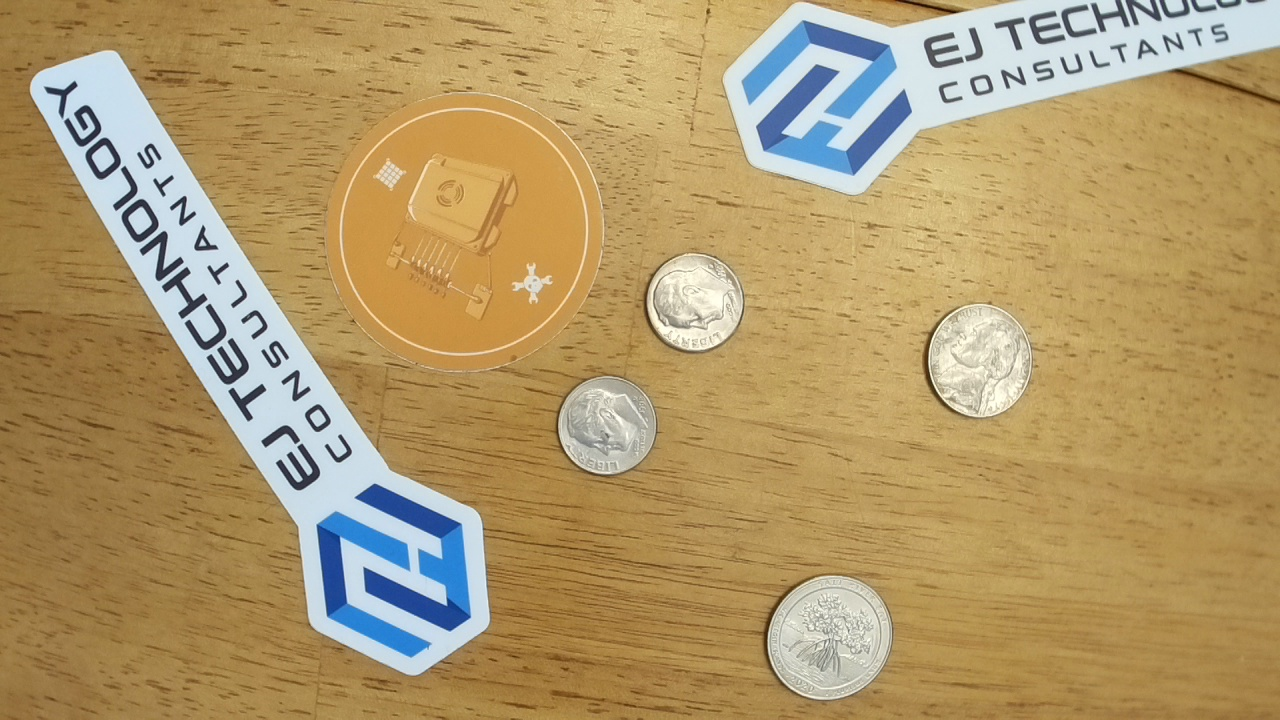dime: (644, 248, 746, 356), (556, 371, 656, 479)
nickel: (922, 303, 1033, 419)
quarter: (762, 571, 896, 705)
